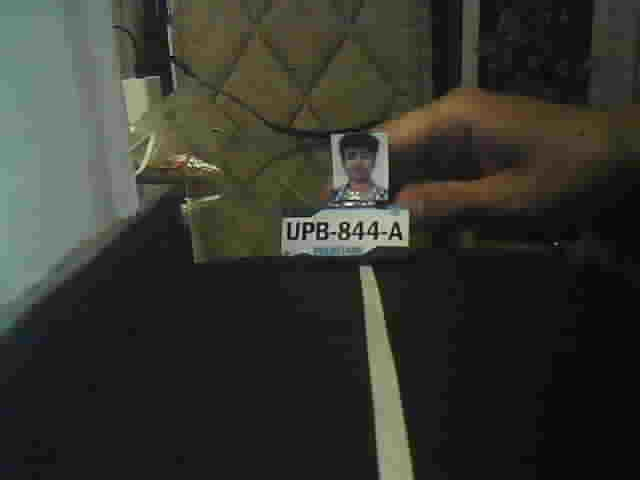PLACA: (280, 205, 411, 267)
ROSTRO: (331, 130, 391, 200)
